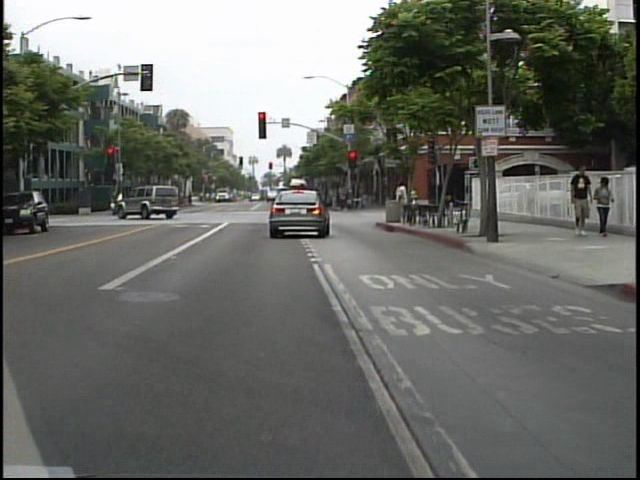person: (565, 163, 593, 244), (591, 170, 617, 242), (393, 175, 415, 224), (122, 187, 128, 220)
